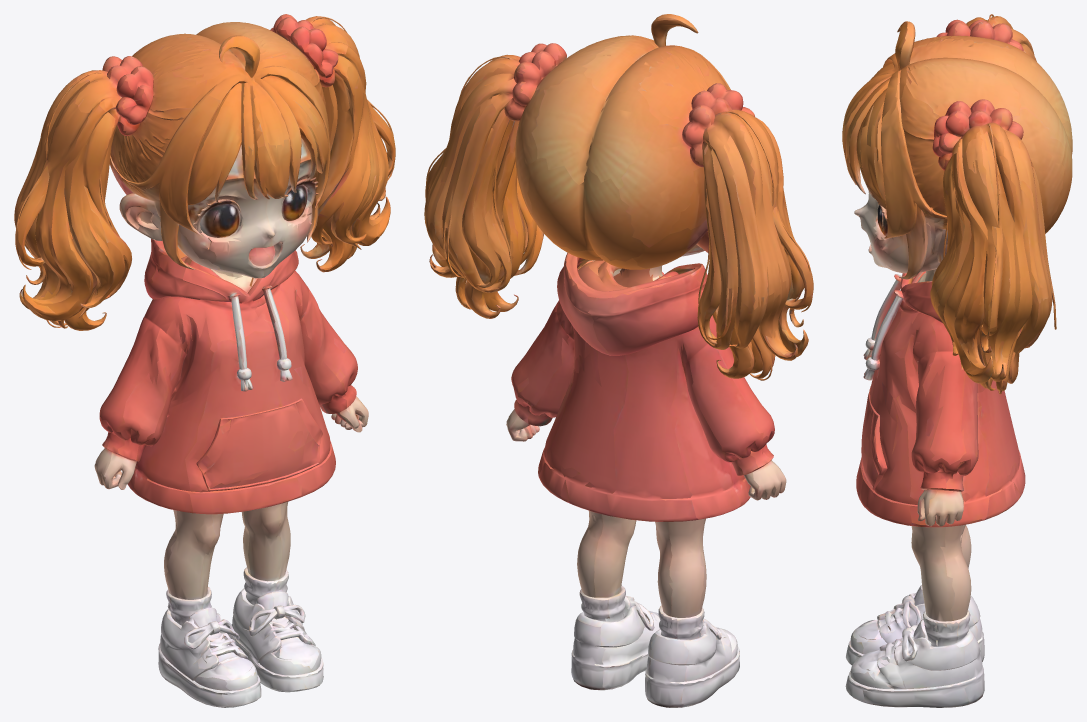
File: tang.glb
The picture shows the model from 3 angles, left to right: view 1: azimuth 30°, elevation 25°; view 2: azimuth 150°, elevation 25°; view 3: azimuth 270°, elevation 25°; orthographic projection. The views are drawn at different scales.
Visible parts, largest first — view 1: geometry_0; view 2: geometry_0; view 3: geometry_0.
Boxes of the visible parts, box(x1,y1,x2,y2) form: geometry_0: box(14, 14, 395, 707); geometry_0: box(424, 14, 813, 707); geometry_0: box(842, 14, 1072, 707).
Size of the model in its own units: 0.7091 by 1.16 by 0.3714.
1 material, 1 textured.
